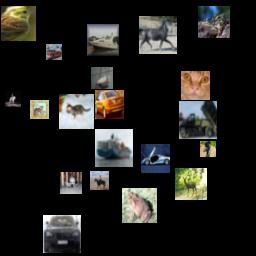automobile: (43, 215, 81, 253), (95, 90, 124, 119), (141, 144, 170, 173)
bird: (1, 6, 36, 41), (91, 67, 113, 89), (200, 141, 216, 157)
cat: (59, 94, 94, 129), (181, 71, 210, 100), (30, 100, 49, 119)
deer: (175, 168, 207, 200)
dog: (60, 172, 82, 194)
frog: (122, 188, 157, 223), (198, 6, 230, 38)
ship: (95, 129, 133, 167), (87, 24, 119, 56)
truck: (179, 101, 217, 139), (46, 44, 62, 60)
